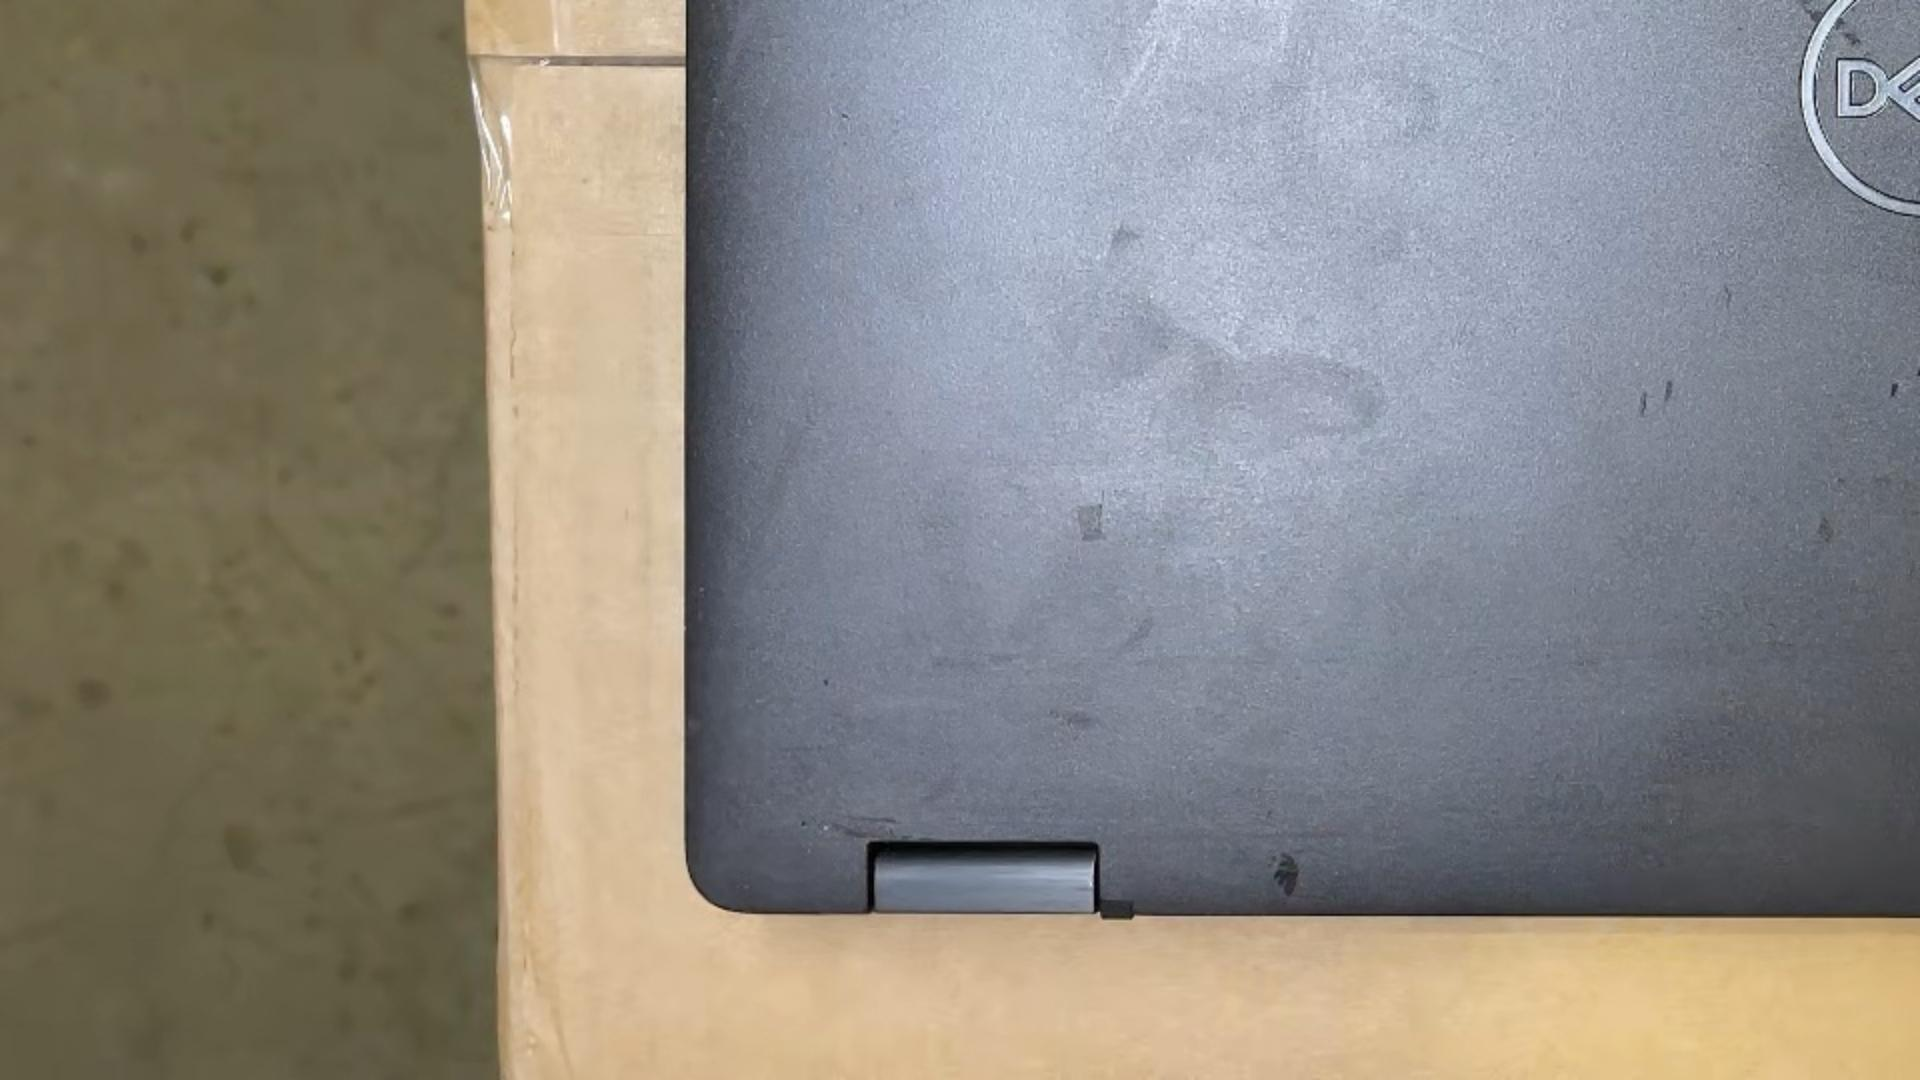chip: (1270, 852, 1298, 902), (820, 675, 832, 688)
scratches: (1721, 284, 1735, 311), (1638, 389, 1648, 419), (1663, 378, 1675, 404), (1890, 381, 1900, 398), (1915, 352, 1920, 378)
